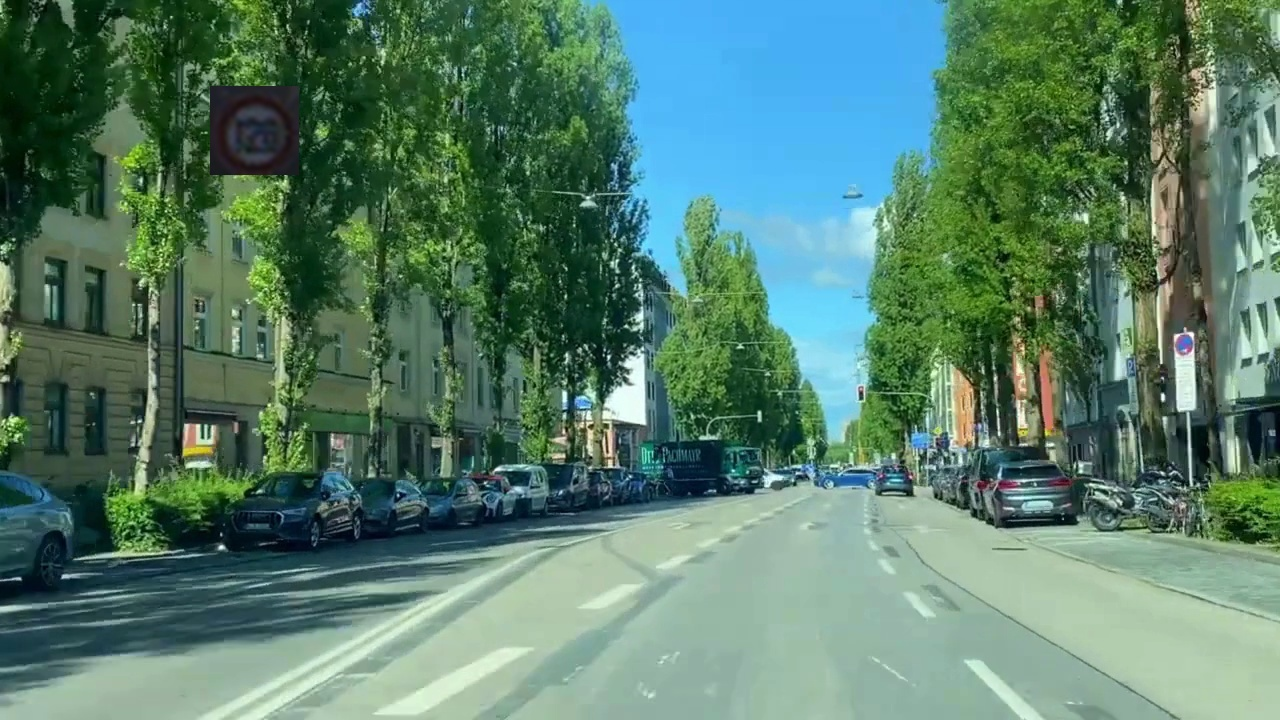Speed 120: (210, 86, 299, 175)
